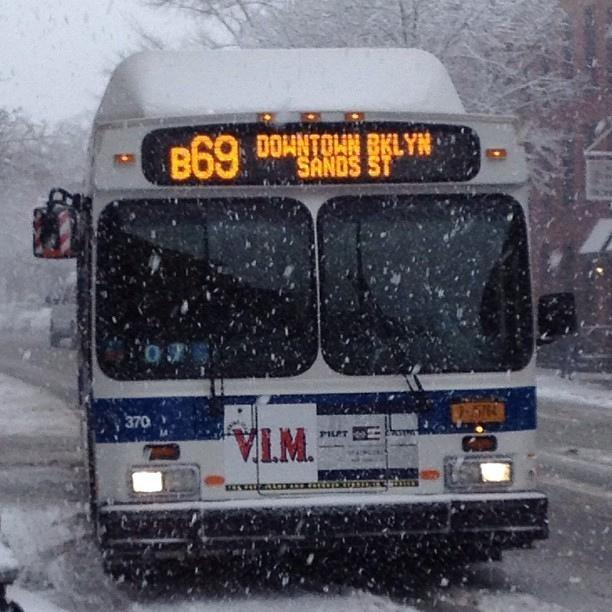bus: (35, 45, 582, 568)
car: (43, 271, 79, 349)
